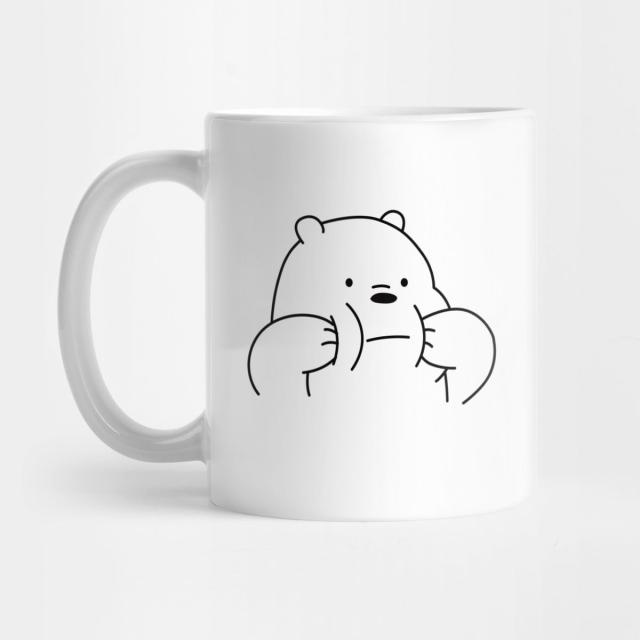glass cup: (58, 108, 537, 522)
